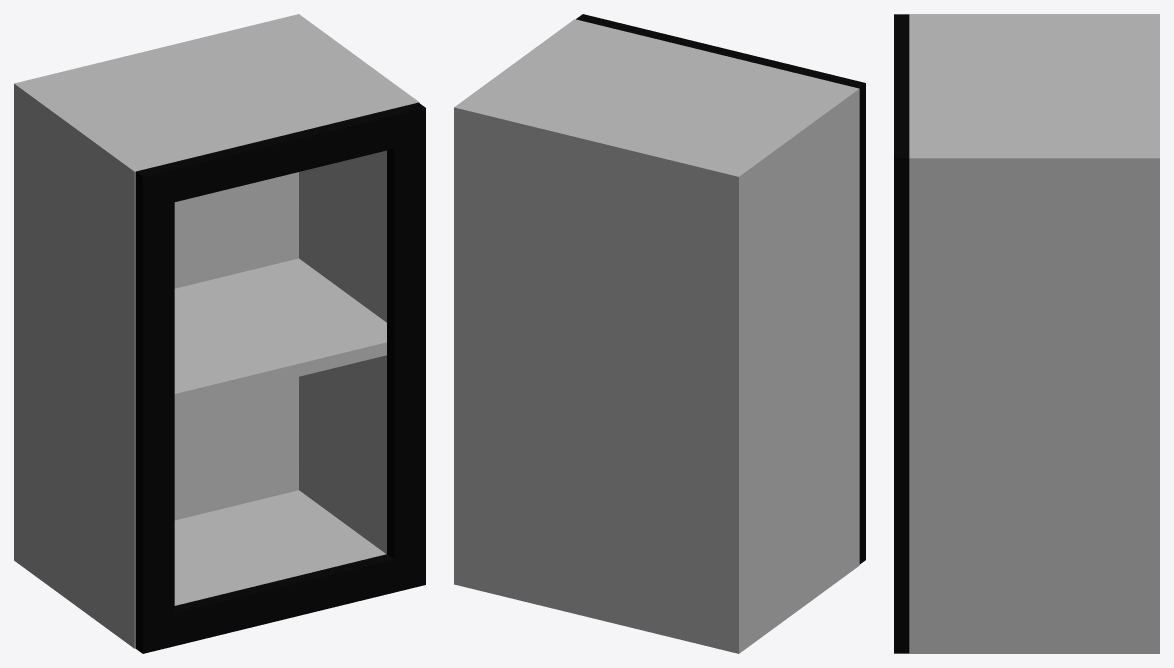
Rendered from mal45.glb.
3 renders of one model, left to right at view 1: azimuth 30°, elevation 25°; view 2: azimuth 150°, elevation 25°; view 3: azimuth 270°, elevation 25°, orthographic. The views are drawn at different scales.
Parts seen in each view (by area): view 1: Box001, Box002; view 2: Box001, Box002; view 3: Box001, Box002.
Boxes of the visible parts, x1=… form: Box001: x1=14, y1=14, x2=419, y2=648; Box002: x1=135, y1=102, x2=425, y2=653; Box001: x1=454, y1=19, x2=859, y2=653; Box002: x1=576, y1=14, x2=865, y2=564; Box001: x1=909, y1=14, x2=1159, y2=653; Box002: x1=894, y1=14, x2=909, y2=653.
Size of the model in its own units: 0.45 by 0.72 by 0.35.
Materials: 2 (1 with a texture image).
